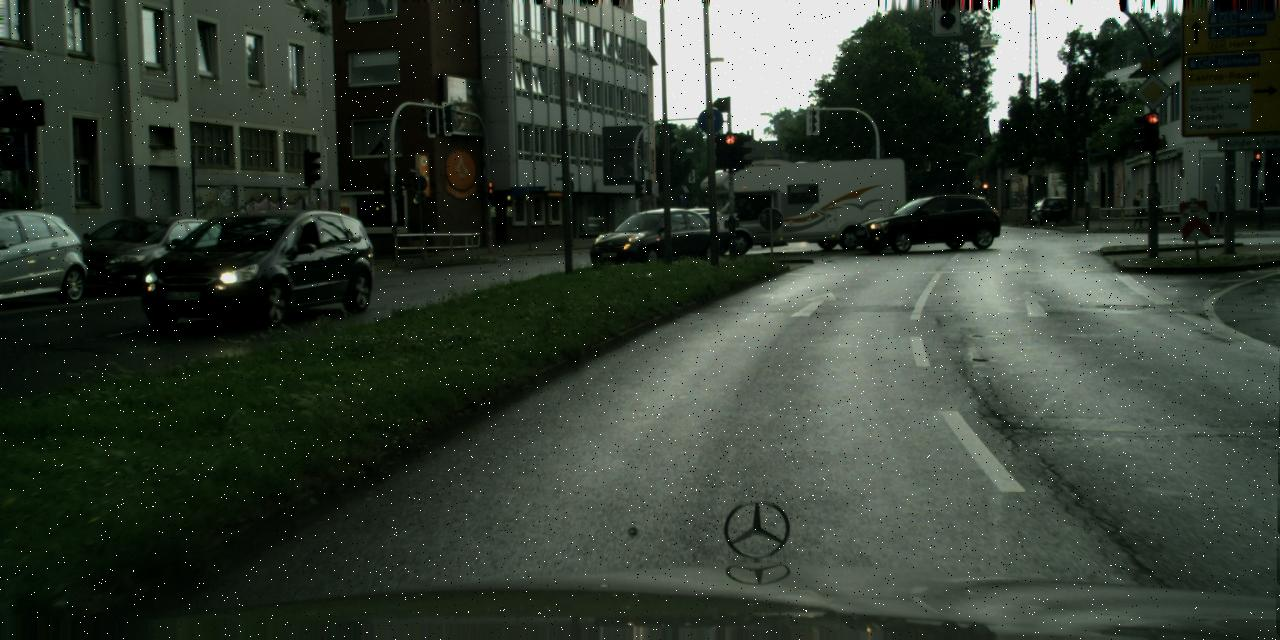ped: (1131, 189, 1147, 228)
